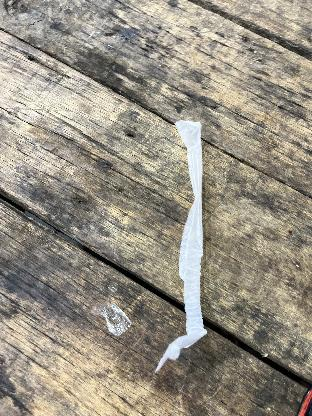Others: (153, 118, 206, 368), (100, 304, 128, 336)
